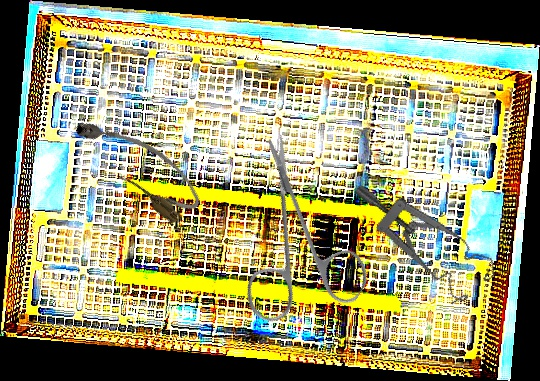Cannula: (67, 99, 209, 230)
Iris Scissors: (185, 131, 410, 357)
Speculum: (351, 146, 504, 323)
